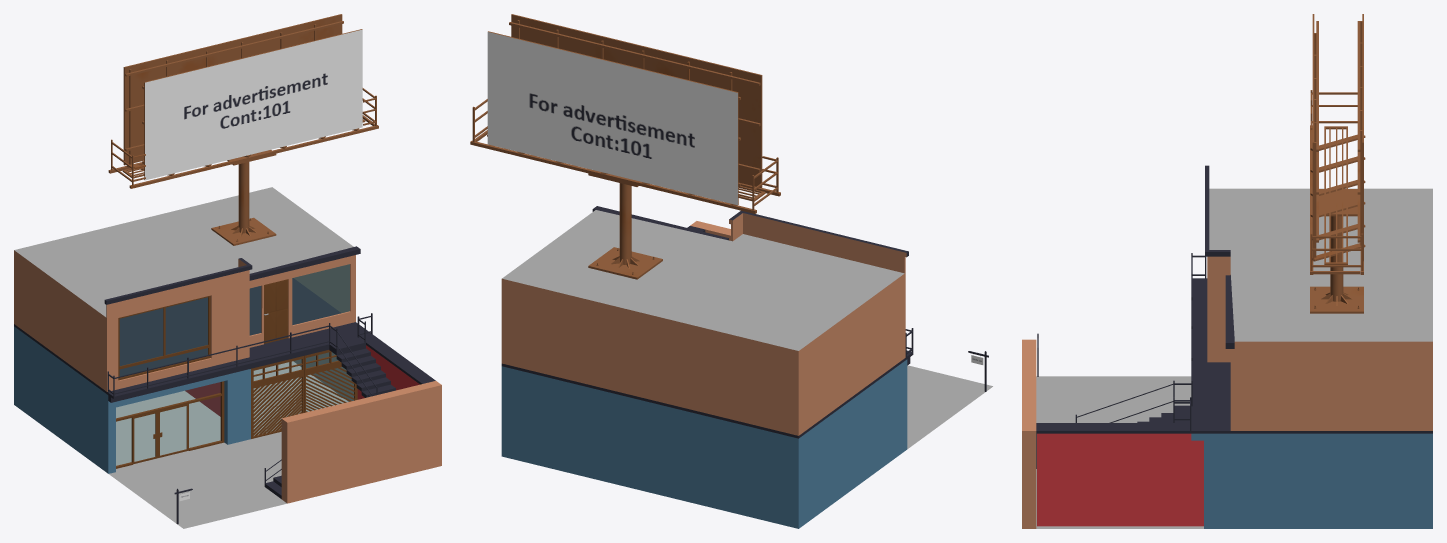
Rendered from building.gltf.
3 renders of one model, left to right at view 1: azimuth 30°, elevation 25°; view 2: azimuth 150°, elevation 25°; view 3: azimuth 270°, elevation 25°, orthographic. The views are drawn at different scales.
Visible parts, largest first — view 1: Flat_For_sale_Building; view 2: Flat_For_sale_Building; view 3: Flat_For_sale_Building.
Boxes of the visible parts, x1,y1,x2,y2 form: Flat_For_sale_Building: (14, 14, 441, 528); Flat_For_sale_Building: (470, 14, 992, 528); Flat_For_sale_Building: (1022, 14, 1432, 528).
Bounding box in the file's own units: 8.99 × 9.2 × 8.35.
Materials: 2 (1 with a texture image).
